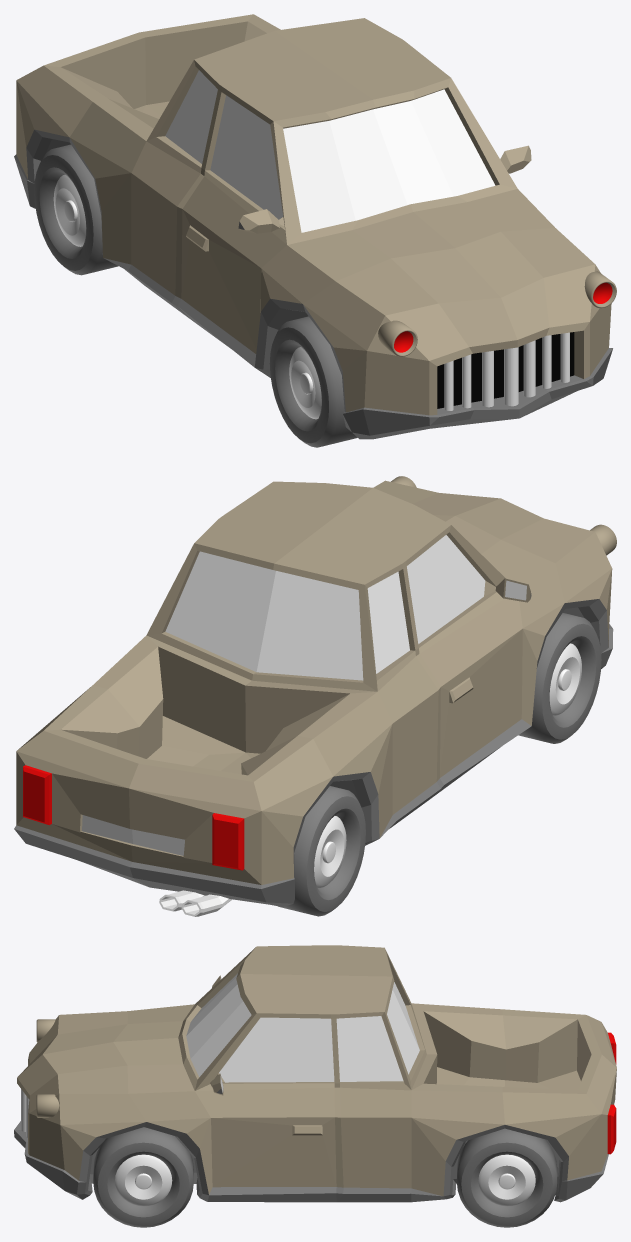
The model's file is Low_Poly_Pickup_Truck_bdeb1f54.glb.
The picture shows the model from 3 angles, top to bottom: view 1: azimuth 30°, elevation 25°; view 2: azimuth 150°, elevation 25°; view 3: azimuth 270°, elevation 25°; orthographic projection. The views are drawn at different scales.
Parts seen in each view (by area): view 1: unnamed (×11); view 2: unnamed (×11); view 3: unnamed (×9).
Part boxes in pixels (x1,y1,x2,y2): unnamed (×11): (14, 14, 616, 447); unnamed (×11): (14, 476, 616, 916); unnamed (×9): (14, 945, 616, 1227).
Size of the model in its own units: 2.38 by 2.07 by 5.52.
